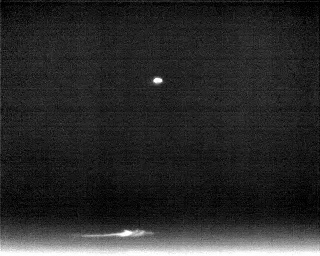AIRPLANE: (151, 74, 165, 87)
